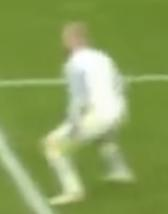goalkeeper: (25, 2, 156, 214)
